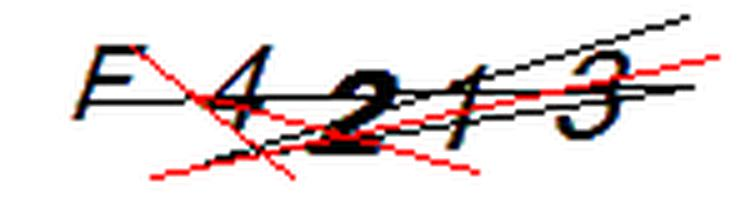1: (423, 56, 504, 167)
2: (299, 52, 407, 168)
3: (541, 41, 645, 149)
4: (192, 31, 283, 141)
F: (65, 35, 160, 131)
